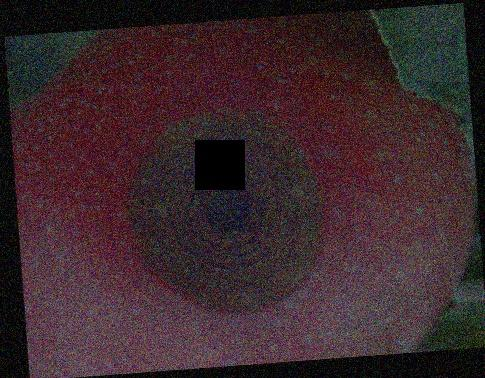rotten apple: (22, 24, 471, 362)
